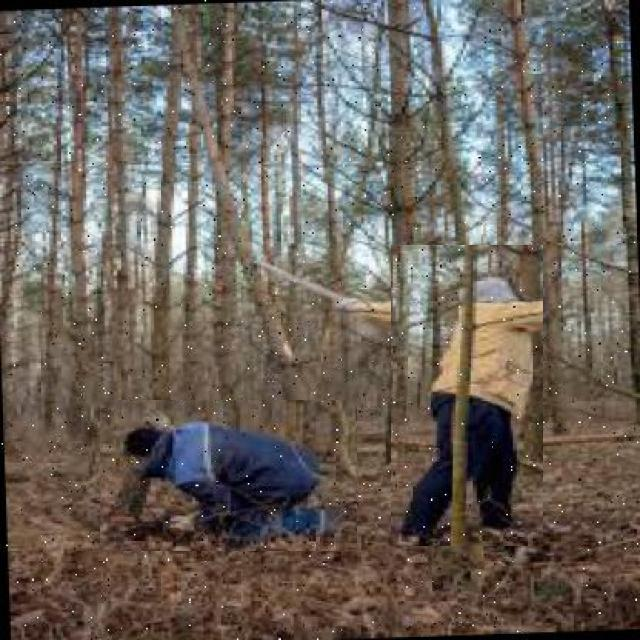poacher: (391, 245, 543, 546), (100, 400, 357, 551), (182, 252, 509, 336)
